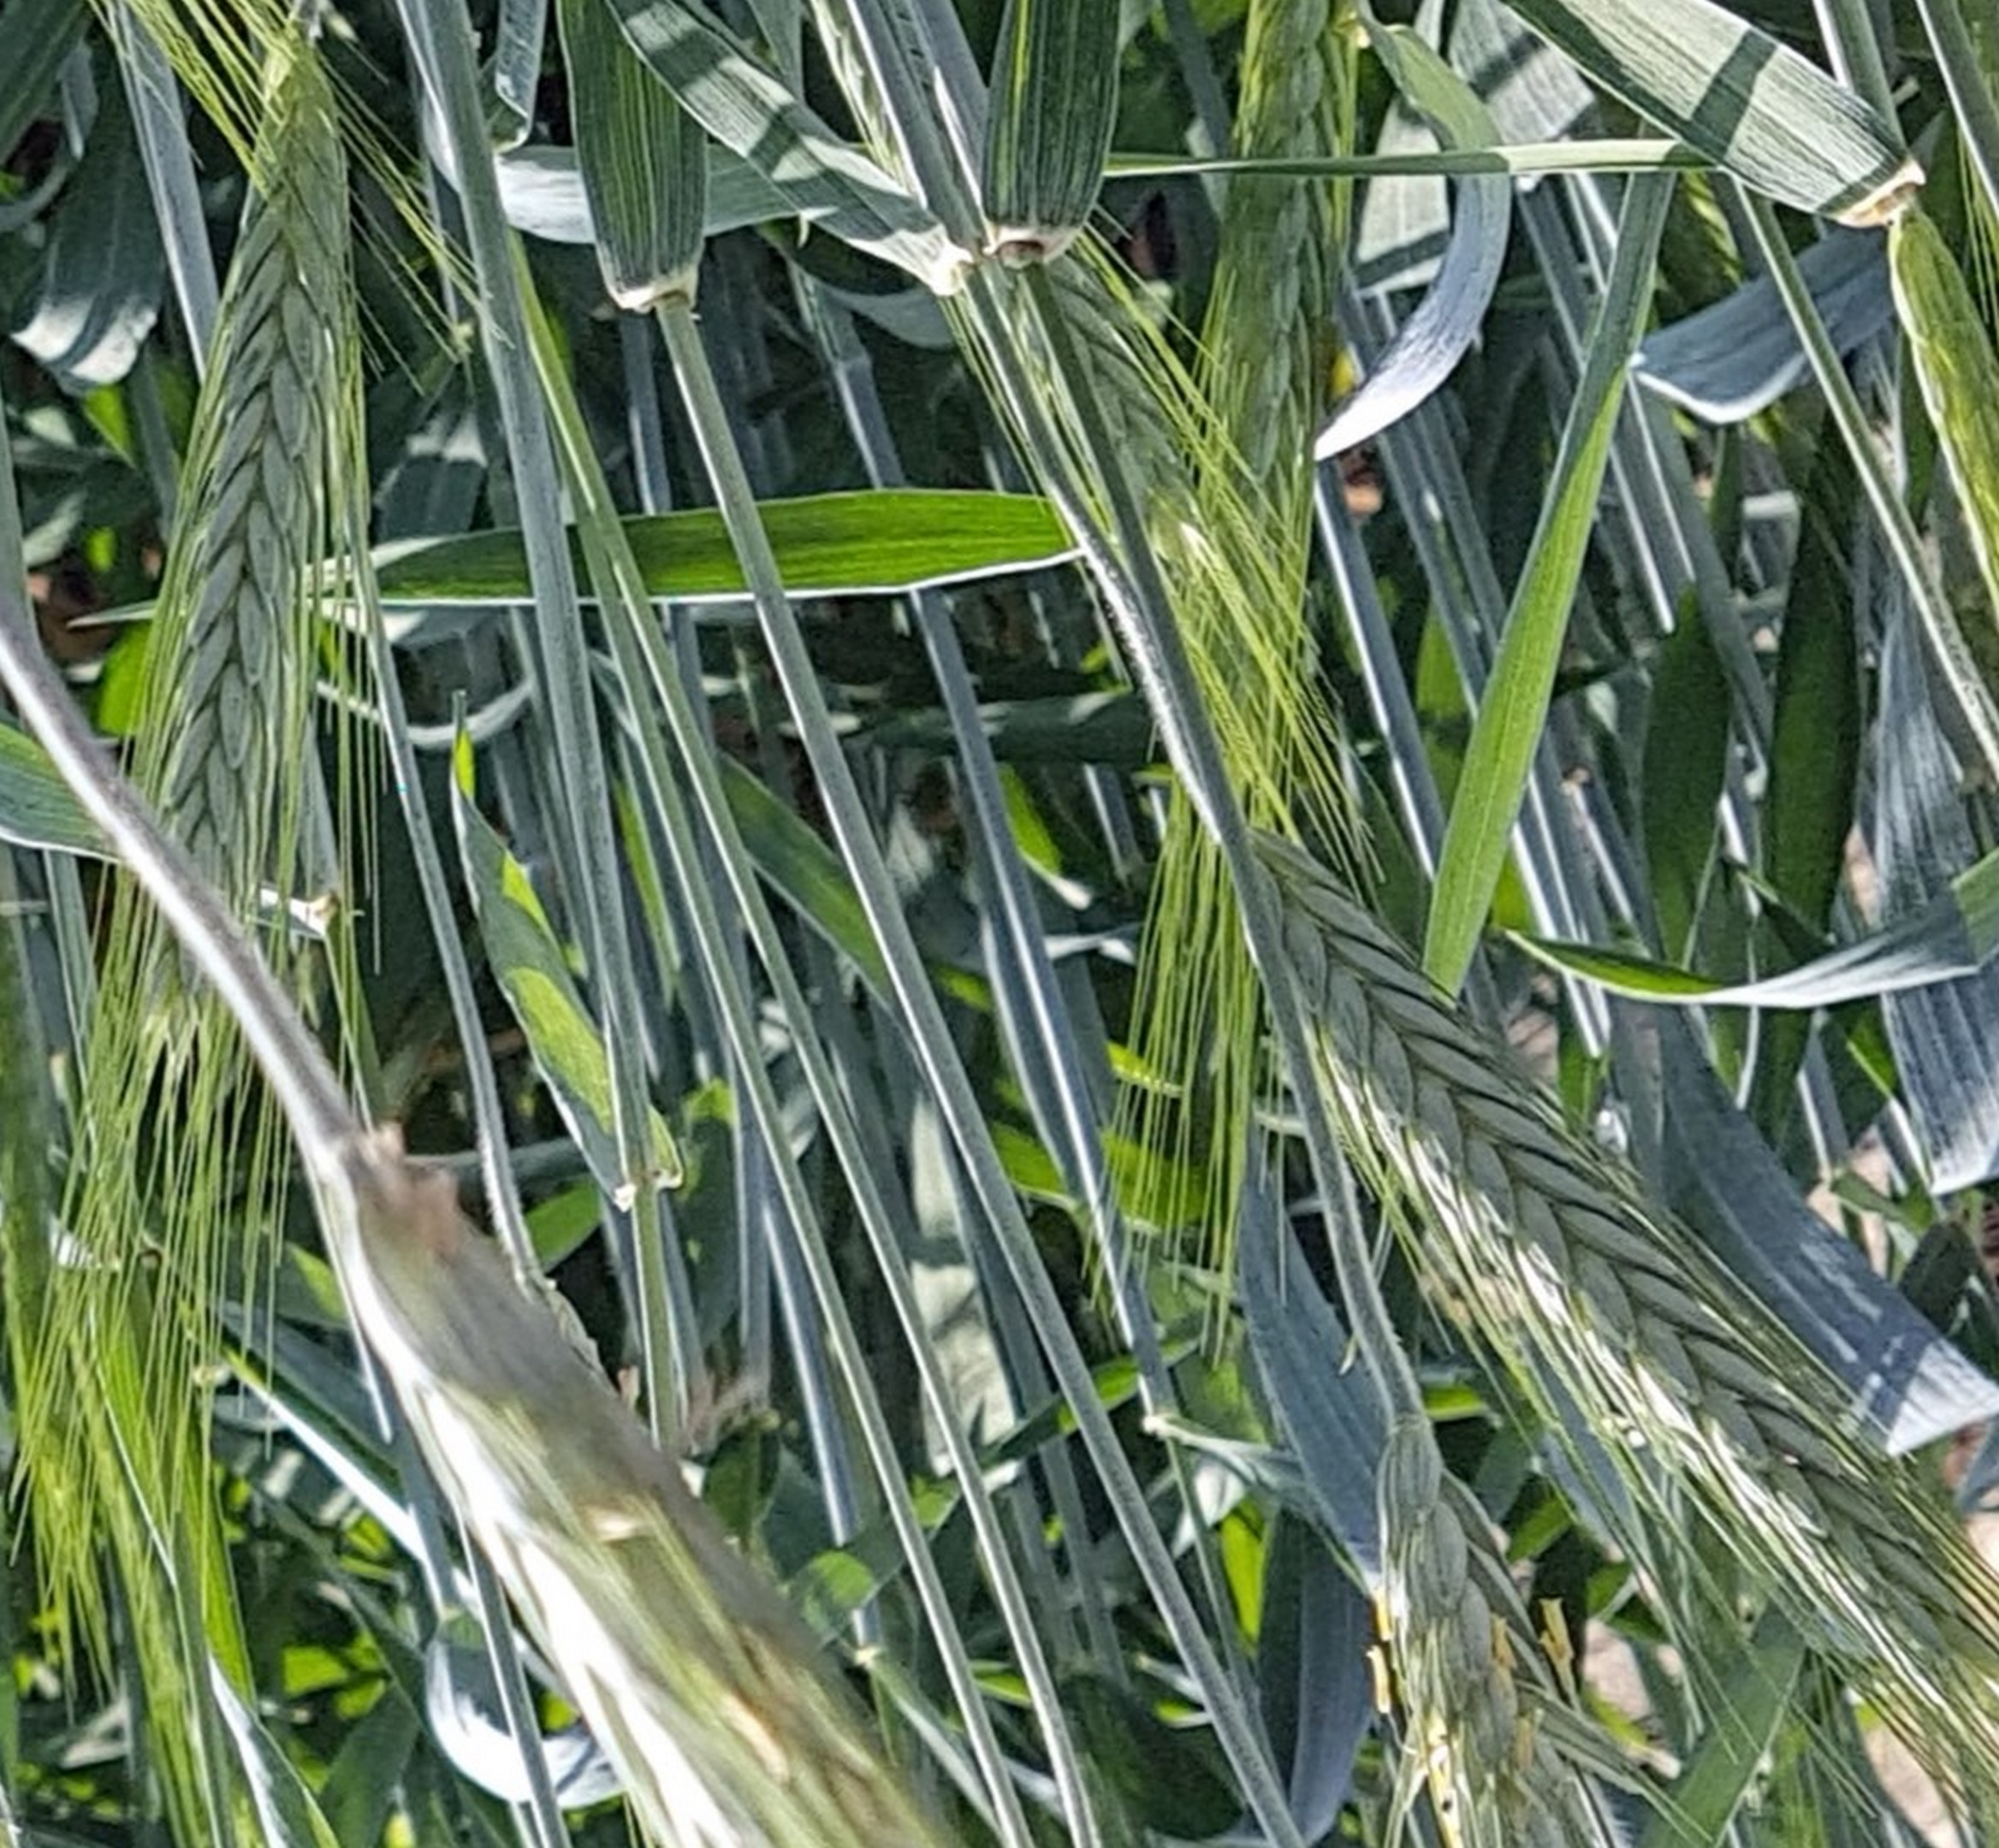Healthy Wheat: (1238, 814, 1999, 1730), (150, 59, 388, 910)
